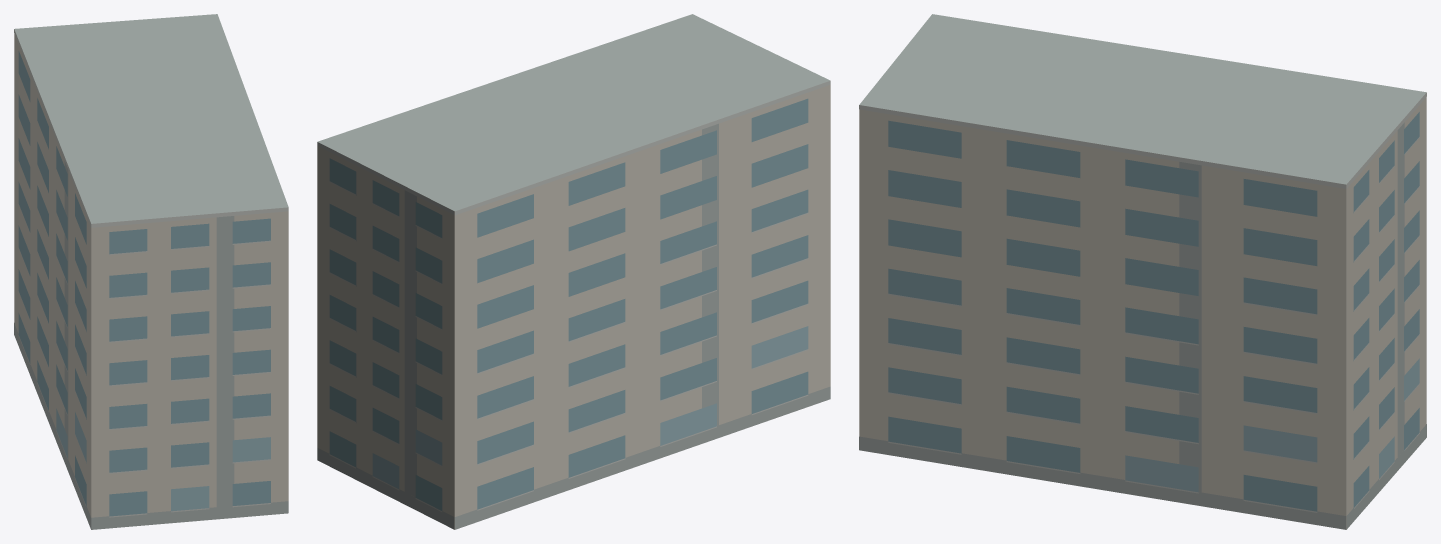
File: survey-upis-32986183.glb
3 views of the same model, side by side, from view 1: azimuth 30°, elevation 25°; view 2: azimuth 150°, elevation 25°; view 3: azimuth 270°, elevation 25° (orthographic). The views are drawn at different scales.
Parts seen in each view (by area): view 1: survey-upis-32986183.tmp; view 2: survey-upis-32986183.tmp; view 3: survey-upis-32986183.tmp.
Part boxes in pixels (x1,y1,x2,y2): survey-upis-32986183.tmp: (14, 14, 288, 529); survey-upis-32986183.tmp: (317, 14, 830, 529); survey-upis-32986183.tmp: (859, 14, 1426, 529).
Bounding box in the file's own units: 20.03 × 18.9 × 28.17.
